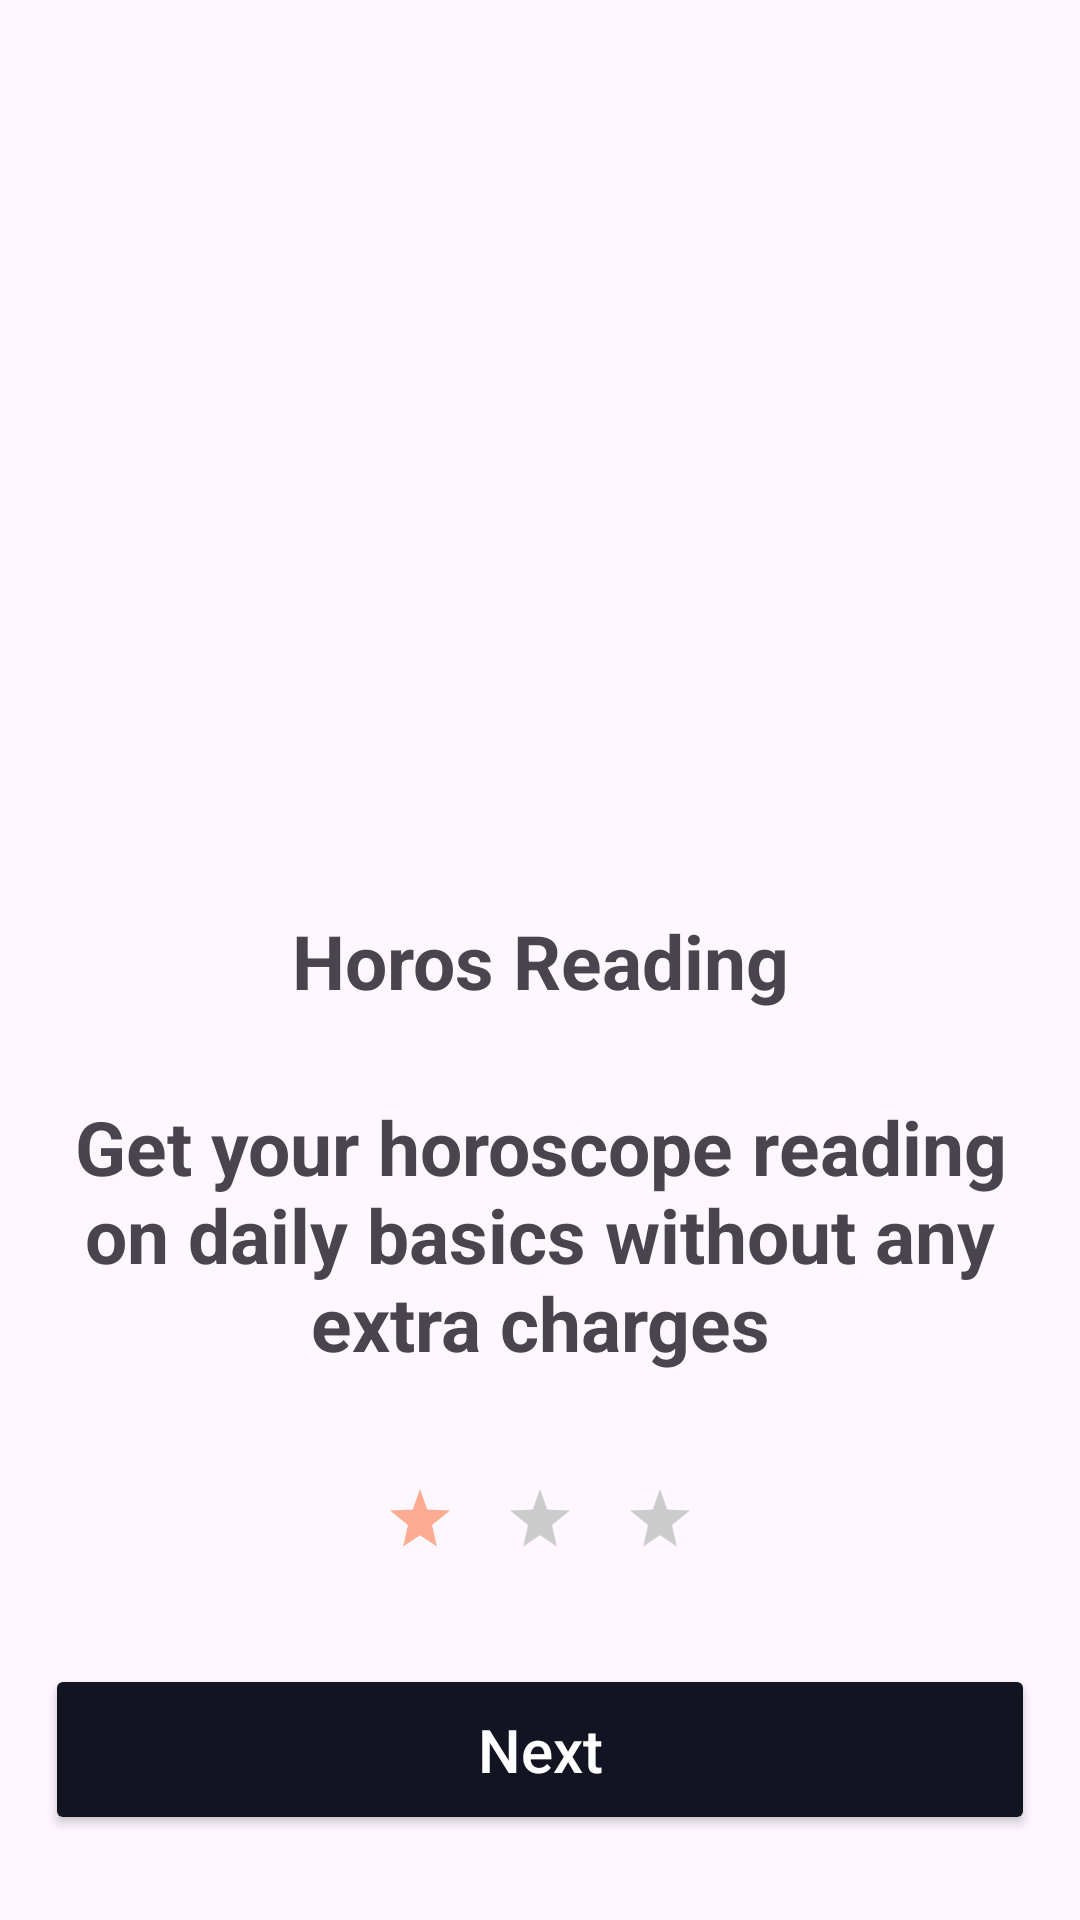

Where to tap for icons on this 1080 x 1920 app screen, as point (x, y):
star: point (420, 1518), point (540, 1518), point (660, 1518)
